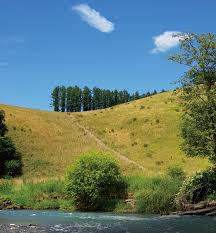mountain: (5, 95, 215, 211)
sky: (2, 2, 208, 95)
tree: (177, 26, 216, 207), (63, 153, 128, 214)
